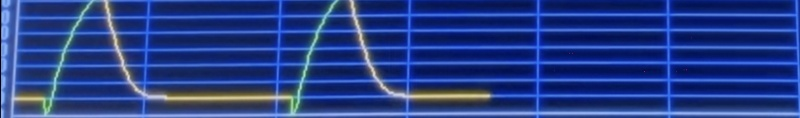leakage: (15, 1, 297, 113)
